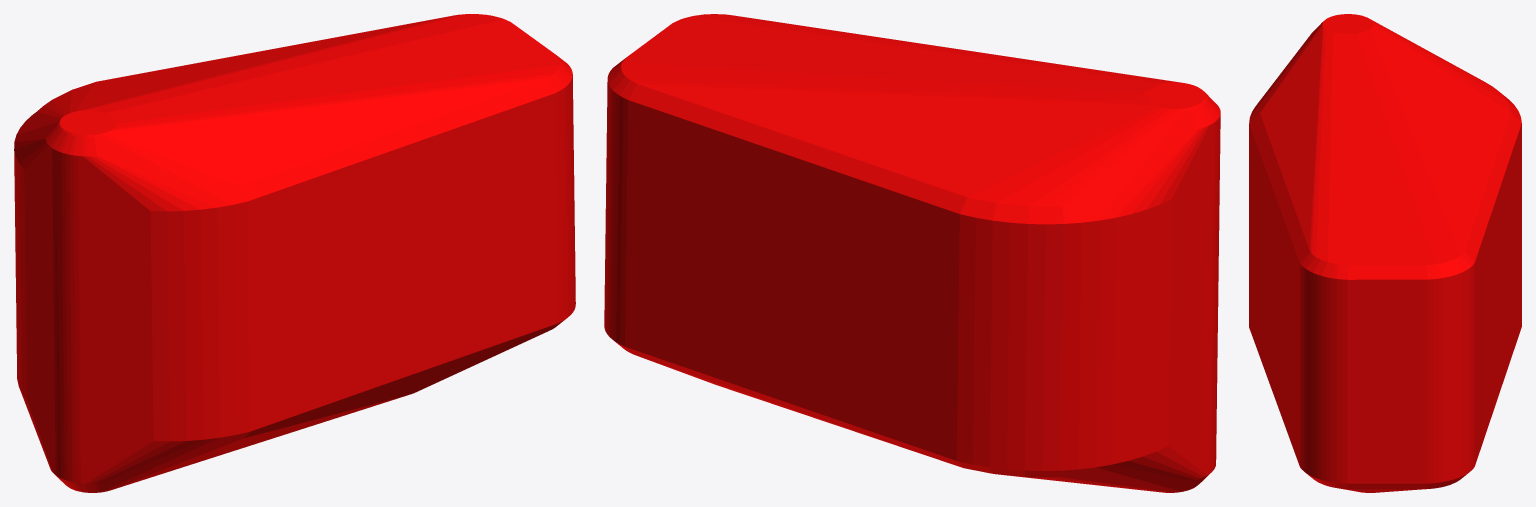
Rendered from col_distal_phalanx.glb.
3 renders of one model, left to right at view 1: azimuth 30°, elevation 25°; view 2: azimuth 150°, elevation 25°; view 3: azimuth 270°, elevation 25°, orthographic. The views are drawn at different scales.
Parts seen in each view (by area): view 1: col_distal_phalanx; view 2: col_distal_phalanx; view 3: col_distal_phalanx.
Boxes of the visible parts, x1,y1,x2,y2 form: col_distal_phalanx: (14,14,575,492); col_distal_phalanx: (604,14,1220,492); col_distal_phalanx: (1249,14,1521,492).
Size of the model in its own units: 0.0482 by 0.032 by 0.025.
